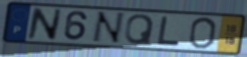6: (63, 10, 89, 42)
L: (157, 15, 182, 47)
N: (89, 11, 127, 46), (26, 7, 64, 42)
O: (186, 16, 218, 50)
Q: (123, 13, 156, 46)
